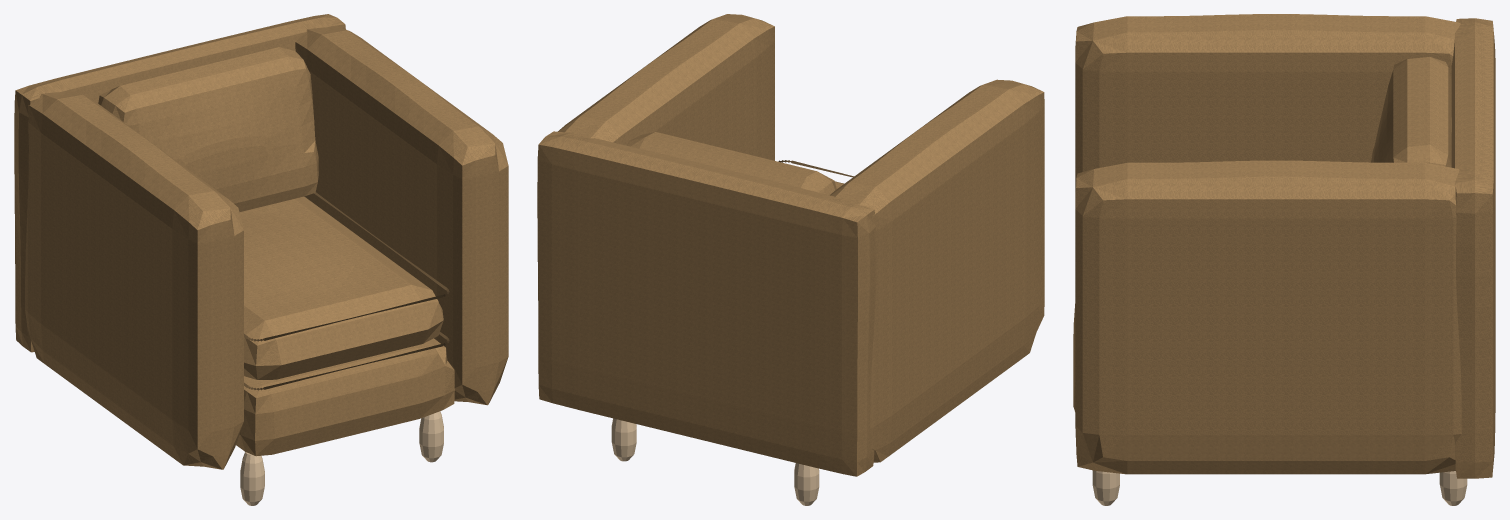
Rendered from CAL-ARM-std.glb.
3 views of the same model, side by side, from view 1: azimuth 30°, elevation 25°; view 2: azimuth 150°, elevation 25°; view 3: azimuth 270°, elevation 25° (orthographic). The views are drawn at different scales.
Parts seen in each view (by area): view 1: arm-pad-l:fabric:eyJwcmVzZXQiOiJ2ZWx2ZXQiLCJ3YXJwIjoiY2FtZWw, arm-pad-r:fabric:eyJwcmVzZXQiOiJ2ZWx2ZXQiLCJ3YXJwIjoiY2FtZWw, seat:fabric:eyJwcmVzZXQiOiJ2ZWx2ZXQiLCJ3YXJwIjoiY2FtZWwiLCJ3, inside-back:fabric:eyJwcmVzZXQiOiJ2ZWx2ZXQiLCJ3YXJwIjoiY2FtZ, deck:fabric:eyJwcmVzZXQiOiJ2ZWx2ZXQiLCJ3YXJwIjoiY2FtZWwiLCJ3, back-pad:fabric:eyJwcmVzZXQiOiJ2ZWx2ZXQiLCJ3YXJwIjoiY2FtZWwi, seat:piping:pbr, leg-fl:pbr, leg-fr:pbr; view 2: back-pad:fabric:eyJwcmVzZXQiOiJ2ZWx2ZXQiLCJ3YXJwIjoiY2FtZWwi, arm-pad-l:fabric:eyJwcmVzZXQiOiJ2ZWx2ZXQiLCJ3YXJwIjoiY2FtZWw, arm-pad-r:fabric:eyJwcmVzZXQiOiJ2ZWx2ZXQiLCJ3YXJwIjoiY2FtZWw, inside-back:fabric:eyJwcmVzZXQiOiJ2ZWx2ZXQiLCJ3YXJwIjoiY2FtZ, leg-bl:pbr, leg-br:pbr; view 3: arm-pad-r:fabric:eyJwcmVzZXQiOiJ2ZWx2ZXQiLCJ3YXJwIjoiY2FtZWw, arm-pad-l:fabric:eyJwcmVzZXQiOiJ2ZWx2ZXQiLCJ3YXJwIjoiY2FtZWw, back-pad:fabric:eyJwcmVzZXQiOiJ2ZWx2ZXQiLCJ3YXJwIjoiY2FtZWwi, inside-back:fabric:eyJwcmVzZXQiOiJ2ZWx2ZXQiLCJ3YXJwIjoiY2FtZ, leg-fr:pbr, leg-br:pbr.
Part boxes in pixels (<box>): arm-pad-l:fabric:eyJwcmVzZXQiOiJ2ZWx2ZXQiLCJ3YXJwIjoiY2FtZWw: <box>25,90,243,469</box>; arm-pad-r:fabric:eyJwcmVzZXQiOiJ2ZWx2ZXQiLCJ3YXJwIjoiY2FtZWw: <box>295,26,508,405</box>; seat:fabric:eyJwcmVzZXQiOiJ2ZWx2ZXQiLCJ3YXJwIjoiY2FtZWwiLCJ3: <box>239,196,443,379</box>; inside-back:fabric:eyJwcmVzZXQiOiJ2ZWx2ZXQiLCJ3YXJwIjoiY2FtZ: <box>98,47,318,212</box>; deck:fabric:eyJwcmVzZXQiOiJ2ZWx2ZXQiLCJ3YXJwIjoiY2FtZWwiLCJ3: <box>236,338,454,456</box>; back-pad:fabric:eyJwcmVzZXQiOiJ2ZWx2ZXQiLCJ3YXJwIjoiY2FtZWwi: <box>14,14,345,352</box>; seat:piping:pbr: <box>244,192,449,390</box>; leg-fl:pbr: <box>240,452,264,505</box>; leg-fr:pbr: <box>419,411,443,462</box>; back-pad:fabric:eyJwcmVzZXQiOiJ2ZWx2ZXQiLCJ3YXJwIjoiY2FtZWwi: <box>537,131,876,476</box>; arm-pad-l:fabric:eyJwcmVzZXQiOiJ2ZWx2ZXQiLCJ3YXJwIjoiY2FtZWw: <box>830,79,1044,462</box>; arm-pad-r:fabric:eyJwcmVzZXQiOiJ2ZWx2ZXQiLCJ3YXJwIjoiY2FtZWw: <box>558,14,774,160</box>; inside-back:fabric:eyJwcmVzZXQiOiJ2ZWx2ZXQiLCJ3YXJwIjoiY2FtZ: <box>626,132,836,195</box>; leg-bl:pbr: <box>794,463,819,505</box>; leg-br:pbr: <box>611,418,636,461</box>; arm-pad-r:fabric:eyJwcmVzZXQiOiJ2ZWx2ZXQiLCJ3YXJwIjoiY2FtZWw: <box>1075,160,1461,474</box>; arm-pad-l:fabric:eyJwcmVzZXQiOiJ2ZWx2ZXQiLCJ3YXJwIjoiY2FtZWw: <box>1075,14,1460,191</box>; back-pad:fabric:eyJwcmVzZXQiOiJ2ZWx2ZXQiLCJ3YXJwIjoiY2FtZWwi: <box>1451,18,1495,478</box>; inside-back:fabric:eyJwcmVzZXQiOiJ2ZWx2ZXQiLCJ3YXJwIjoiY2FtZ: <box>1371,56,1451,167</box>; leg-fr:pbr: <box>1092,470,1119,505</box>; leg-br:pbr: <box>1439,471,1467,505</box>.
Size of the model in its own units: 0.85 by 0.8 by 0.85.
11 materials, 6 textured.
